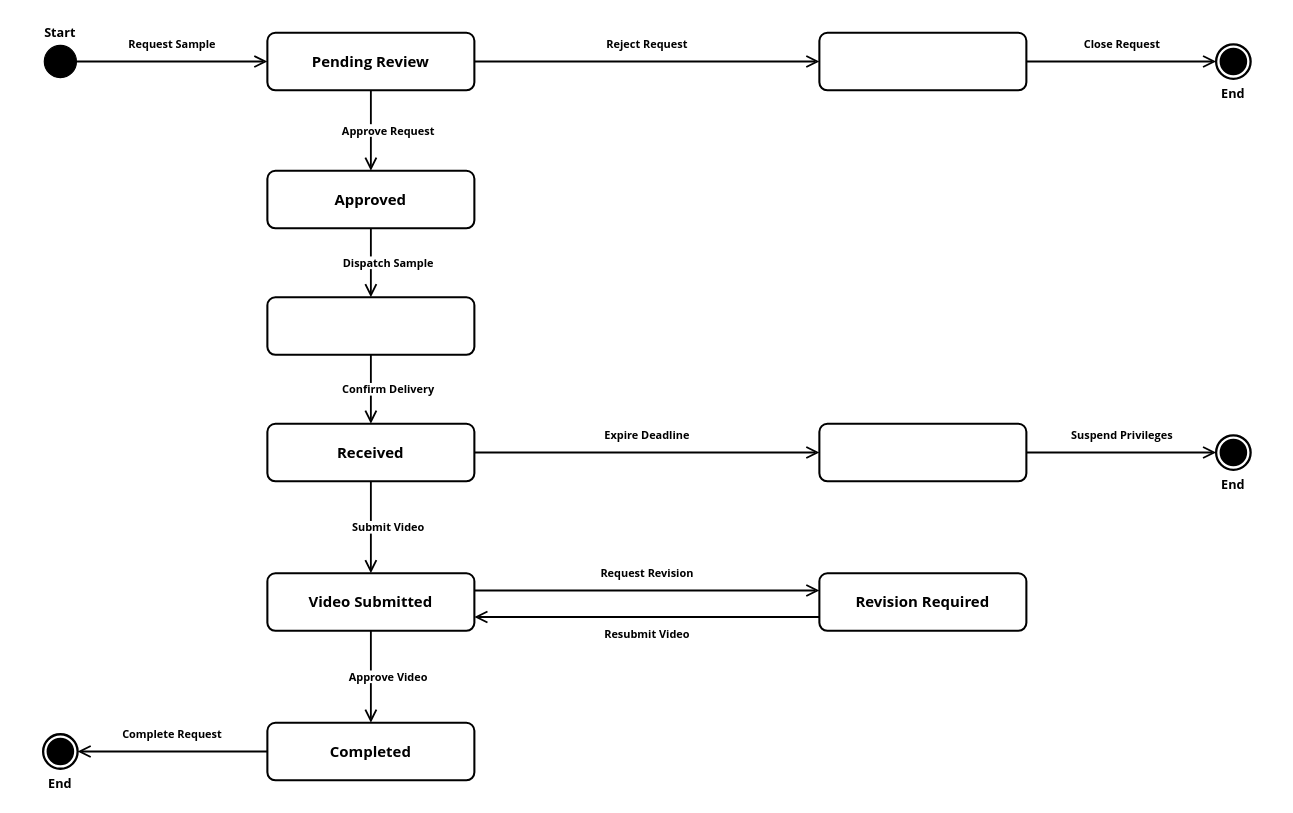
Some shapes in this 1293 by 813 pixel diagram are drawn without their labels. The shapes that lost their labels are listed below. From the top down, each one's box as (x1, y1, x2, y2) in pixels, then its label:
(818, 31, 1027, 91): Rejected
(266, 296, 475, 355): Shipped
(818, 422, 1027, 482): Overdue
